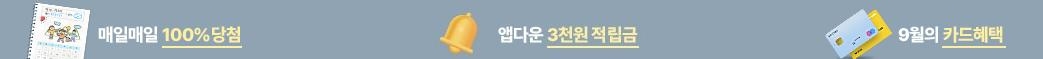button: (495, 12, 650, 53), (93, 17, 247, 50), (892, 19, 1012, 52)
popup: (1, 0, 1043, 59)
